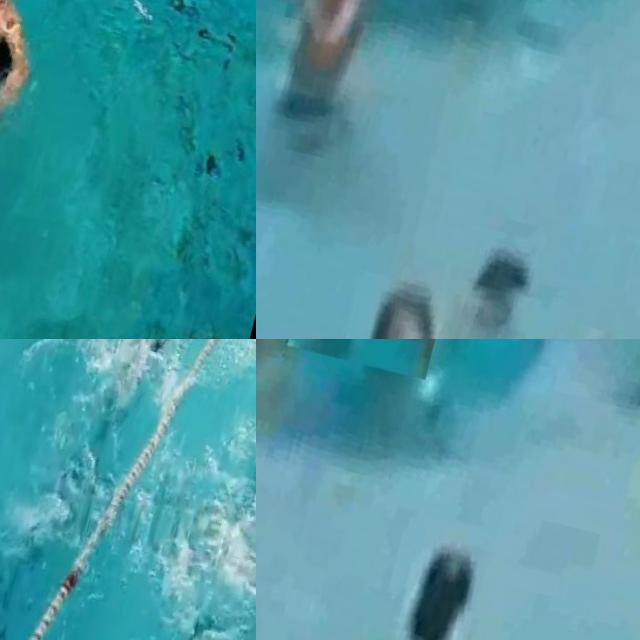drowning: (359, 529, 533, 640), (441, 202, 575, 336)
swimming: (256, 0, 421, 158), (0, 0, 65, 165), (285, 339, 461, 381), (116, 339, 226, 376), (348, 298, 446, 339)
